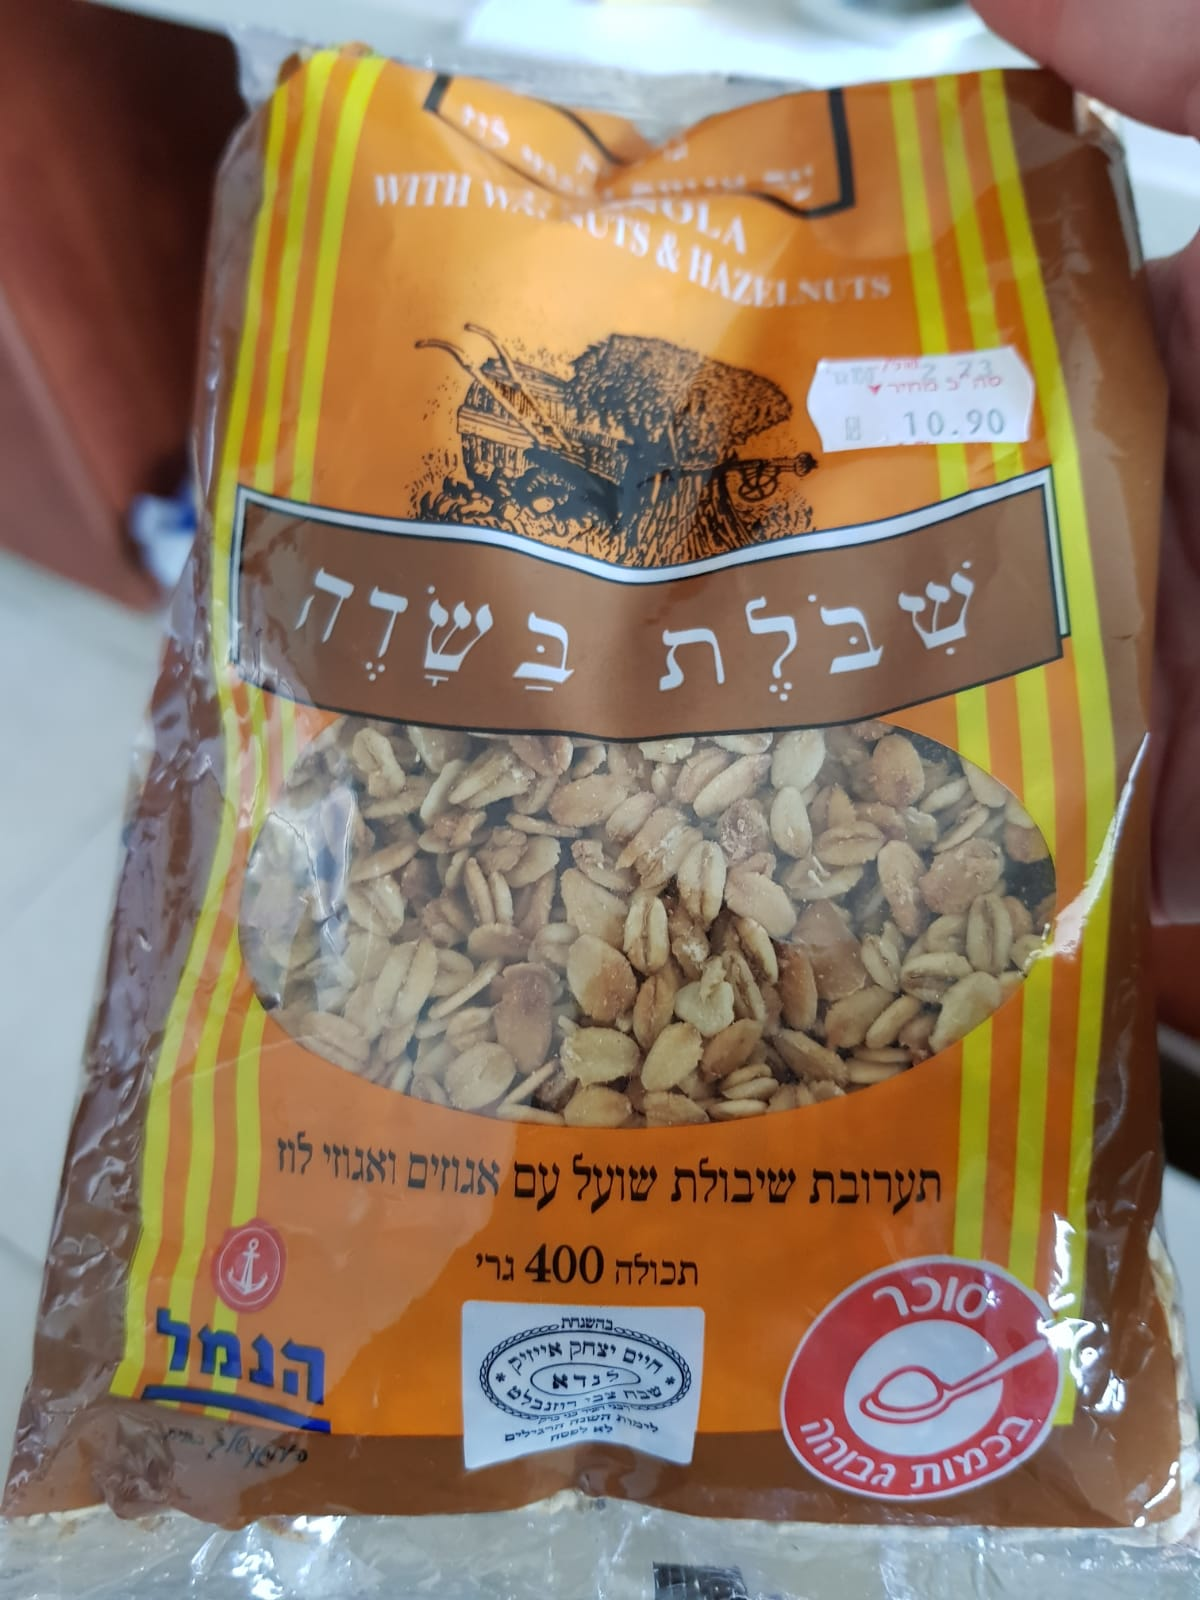sugar: (782, 1256, 1066, 1508)
